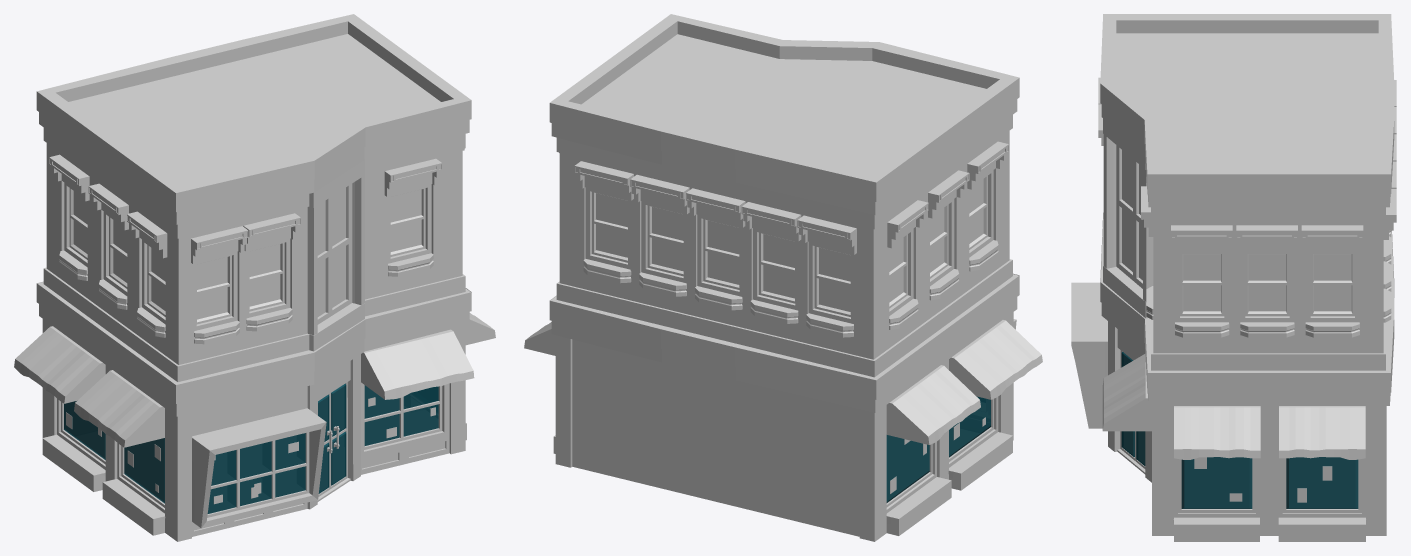
File: shop_04_medium.fbx
The picture shows the model from 3 angles, left to right: view 1: azimuth 30°, elevation 25°; view 2: azimuth 150°, elevation 25°; view 3: azimuth 270°, elevation 25°; orthographic projection. The views are drawn at different scales.
Visible parts, largest first — view 1: shop_04_medium, shop_04_medium_glass; view 2: shop_04_medium, shop_04_medium_glass; view 3: shop_04_medium, shop_04_medium_glass.
Boxes of the visible parts, x1,y1,x2,y2 form: shop_04_medium: (14,14,495,541); shop_04_medium_glass: (64,383,438,513); shop_04_medium: (524,14,1042,541); shop_04_medium_glass: (886,396,990,502); shop_04_medium: (1071,14,1396,541); shop_04_medium_glass: (1121,352,1358,508).
Bounding box in the file's own units: 1028 × 882 × 715.
